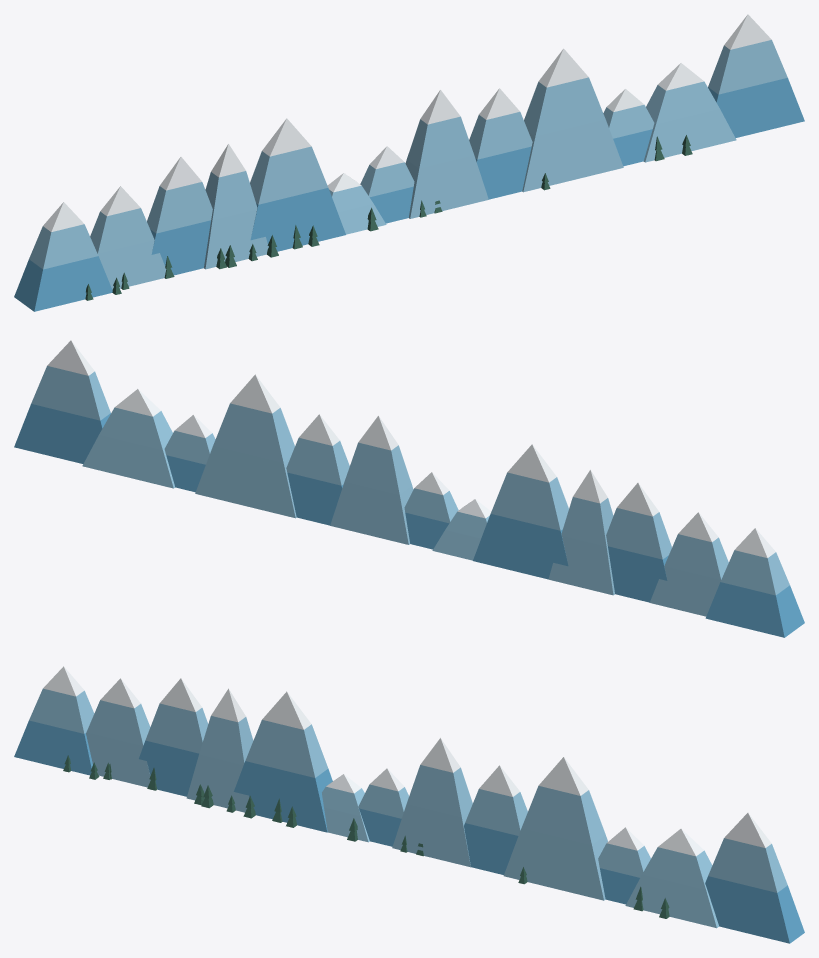
File: backdrop_ice.glb
The picture shows the model from 3 angles, top to bottom: view 1: azimuth 30°, elevation 25°; view 2: azimuth 150°, elevation 25°; view 3: azimuth 330°, elevation 25°; orthographic projection.
Visible parts, largest first — view 1: backdrop_ice; view 2: backdrop_ice; view 3: backdrop_ice.
Boxes of the visible parts, <box> form: backdrop_ice: <box>14,14,804,311</box>; backdrop_ice: <box>14,340,804,637</box>; backdrop_ice: <box>14,666,804,943</box>.
Bounding box in the file's own units: 260 × 40 × 14.
Materials: 1 (1 with a texture image).
